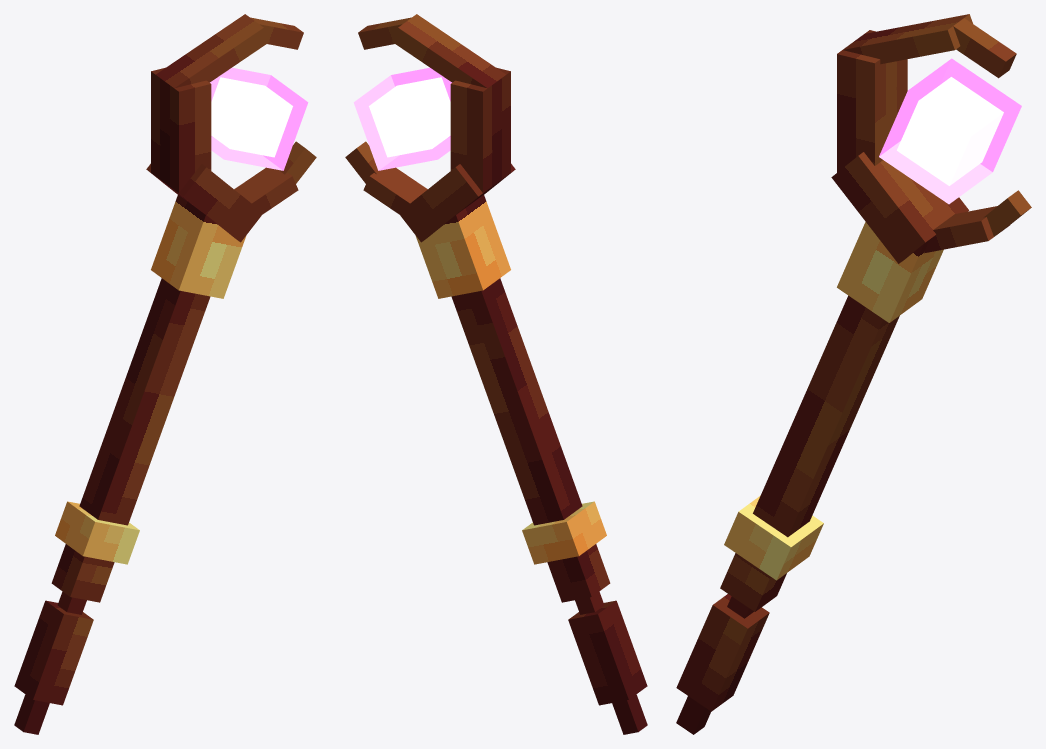
The model's file is wand.glb.
The picture shows the model from 3 angles, left to right: view 1: azimuth 30°, elevation 25°; view 2: azimuth 150°, elevation 25°; view 3: azimuth 330°, elevation 25°; orthographic projection. The views are drawn at different scales.
Visible parts, largest first — view 1: cube_11, cube_1, cube_17, cube_13, cube_7, cube_2, cube_16, cube_0, cube_outline_8, cube_4, cube_12, cube_3 (+1 smaller); view 2: cube_11, cube_1, cube_17, cube_13, cube_7, cube_2, cube_16, cube_0, cube_outline_8, cube_4, cube_12, cube_3 (+1 smaller); view 3: cube_11, cube_7, cube_0, cube_1, cube_13, cube_outline_8, cube_17, cube_16, cube_2, cube_3, cube_4, cube_5 (+1 smaller).
Part boxes in pixels (x1=…): cube_11: x1=51, y1=278, x2=210, y2=602; cube_1: x1=151, y1=67, x2=211, y2=192; cube_17: x1=151, y1=195, x2=245, y2=298; cube_13: x1=14, y1=600, x2=93, y2=705; cube_7: x1=211, y1=77, x2=292, y2=157; cube_2: x1=156, y1=14, x2=269, y2=88; cube_16: x1=55, y1=501, x2=139, y2=564; cube_0: x1=146, y1=163, x2=263, y2=242; cube_outline_8: x1=210, y1=67, x2=308, y2=170; cube_4: x1=234, y1=167, x2=298, y2=213; cube_12: x1=14, y1=694, x2=49, y2=734; cube_3: x1=250, y1=17, x2=303, y2=49; cube_11: x1=451, y1=278, x2=610, y2=602; cube_1: x1=450, y1=67, x2=510, y2=192; cube_17: x1=416, y1=195, x2=510, y2=298; cube_13: x1=568, y1=600, x2=647, y2=705; cube_7: x1=369, y1=77, x2=450, y2=157; cube_2: x1=392, y1=14, x2=505, y2=88; cube_16: x1=522, y1=501, x2=606, y2=564; cube_0: x1=398, y1=163, x2=515, y2=242; cube_outline_8: x1=353, y1=67, x2=451, y2=170; cube_4: x1=363, y1=167, x2=427, y2=213; cube_12: x1=612, y1=694, x2=647, y2=734; cube_3: x1=358, y1=17, x2=411, y2=49; cube_11: x1=720, y1=295, x2=899, y2=611; cube_7: x1=897, y1=77, x2=1003, y2=185; cube_0: x1=831, y1=152, x2=968, y2=263; cube_1: x1=837, y1=30, x2=907, y2=172; cube_13: x1=676, y1=594, x2=769, y2=711; cube_outline_8: x1=879, y1=58, x2=1021, y2=204; cube_17: x1=837, y1=222, x2=943, y2=322; cube_16: x1=724, y1=495, x2=823, y2=580; cube_2: x1=843, y1=14, x2=972, y2=64; cube_3: x1=953, y1=18, x2=1016, y2=78; cube_4: x1=924, y1=206, x2=1009, y2=253; cube_5: x1=983, y1=190, x2=1031, y2=236.
Size of the model in its own units: 1.13 by 2.43 by 0.25.
3 materials, 3 textured.
